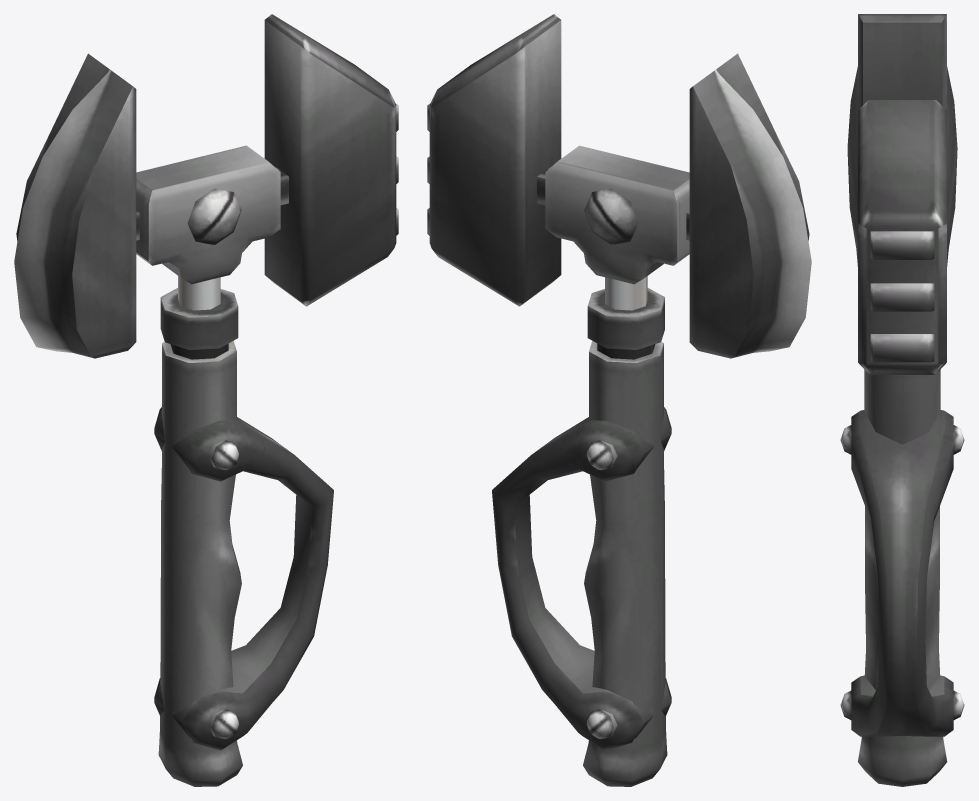
Rendered from Omniwrench.obj.
3 views of the same model, side by side, from view 1: azimuth 30°, elevation 25°; view 2: azimuth 150°, elevation 25°; view 3: azimuth 270°, elevation 25° (orthographic).
Visible parts, largest first — view 1: Mesh0; view 2: Mesh0; view 3: Mesh0.
Part boxes in pixels (x1,y1,x2,y2): Mesh0: (14, 14, 398, 786); Mesh0: (427, 14, 811, 786); Mesh0: (840, 14, 964, 786).
Size of the model in its own units: 27.04 by 51.13 by 7.95.
6 materials, 6 textured.
